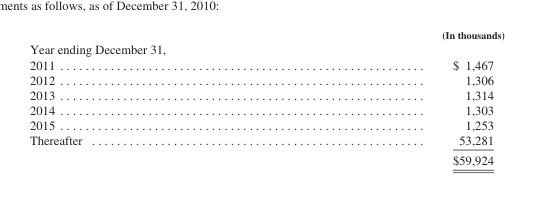table: (28, 28, 503, 167)
table column: (261, 28, 503, 167), (28, 28, 261, 167)
table column header: (28, 28, 503, 41)
table projected row header: (28, 41, 503, 56)
table row: (28, 132, 503, 150), (28, 150, 503, 167), (28, 86, 503, 102), (28, 41, 503, 56), (28, 56, 503, 71), (28, 71, 503, 86), (28, 102, 503, 117), (28, 117, 503, 132), (28, 28, 503, 41)
